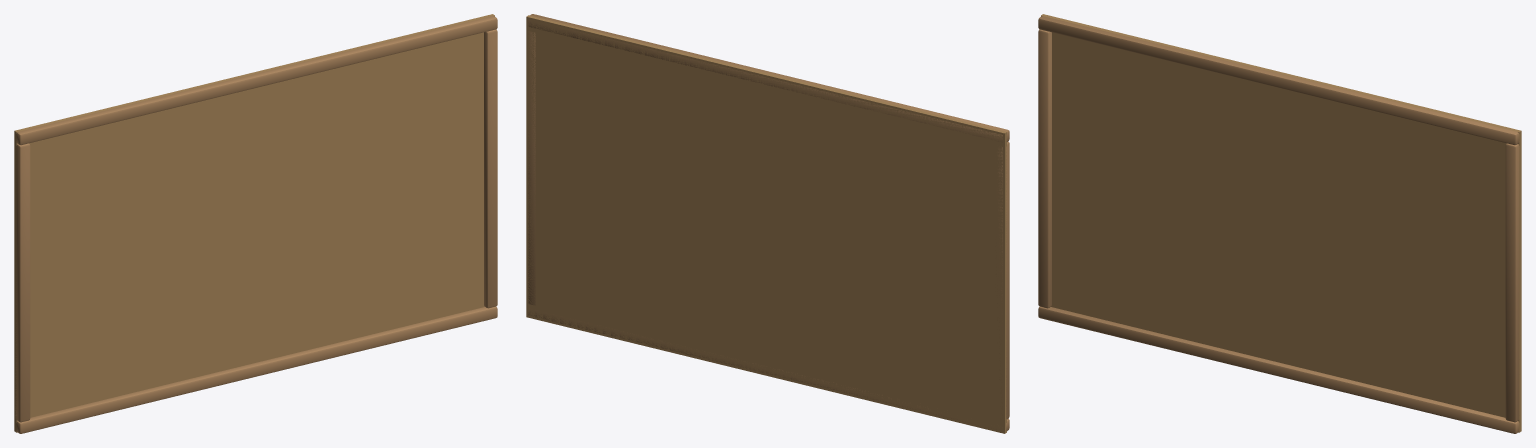
File: pinboard.glb
The picture shows the model from 3 angles, left to right: view 1: azimuth 30°, elevation 25°; view 2: azimuth 150°, elevation 25°; view 3: azimuth 330°, elevation 25°; orthographic projection.
Visible parts, largest first — view 1: board, pinboard; view 2: pinboard; view 3: board, pinboard.
Boxes of the visible parts, x1,y1,x2,y2 form: board: (29,32,483,417); pinboard: (14,14,497,433); pinboard: (526,14,1009,433); board: (1052,32,1506,417); pinboard: (1038,14,1521,433).
Size of the model in its own units: 1.5 by 0.9001 by 0.03.
